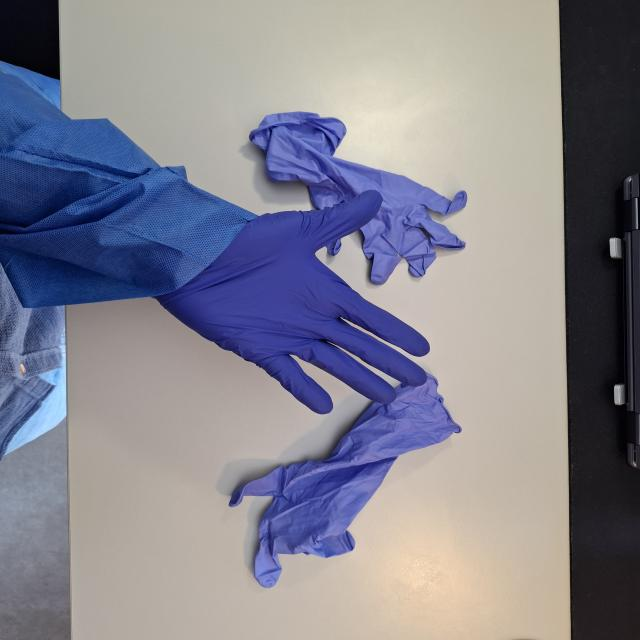glove_on: (154, 188, 437, 417)
